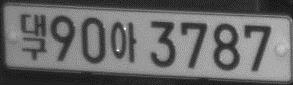0: (80, 16, 106, 64)
3: (150, 20, 176, 67)
7: (180, 21, 208, 68), (244, 24, 272, 71)
8: (212, 22, 240, 70)
9: (50, 14, 75, 62)
대구_V: (20, 13, 47, 60)
아: (110, 21, 136, 62)
